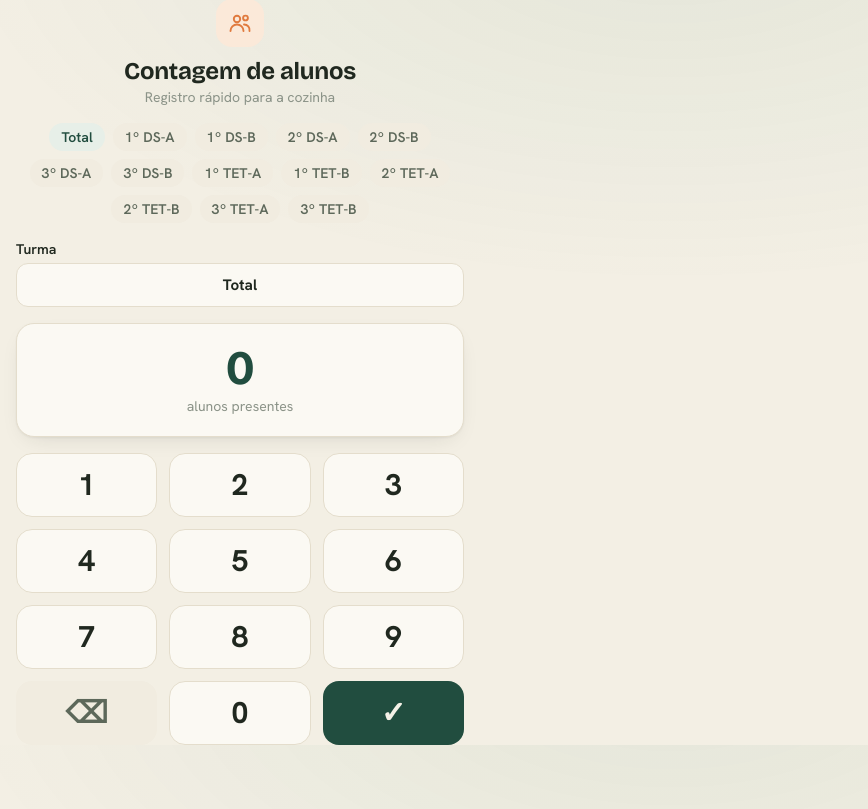
Test: ContagemView › registra qualquer turma automaticamente como integral
This screenshot has width=868, height=809.
Click the button "2º DS-A".
click(313, 137)  # box [276,123,350,151]
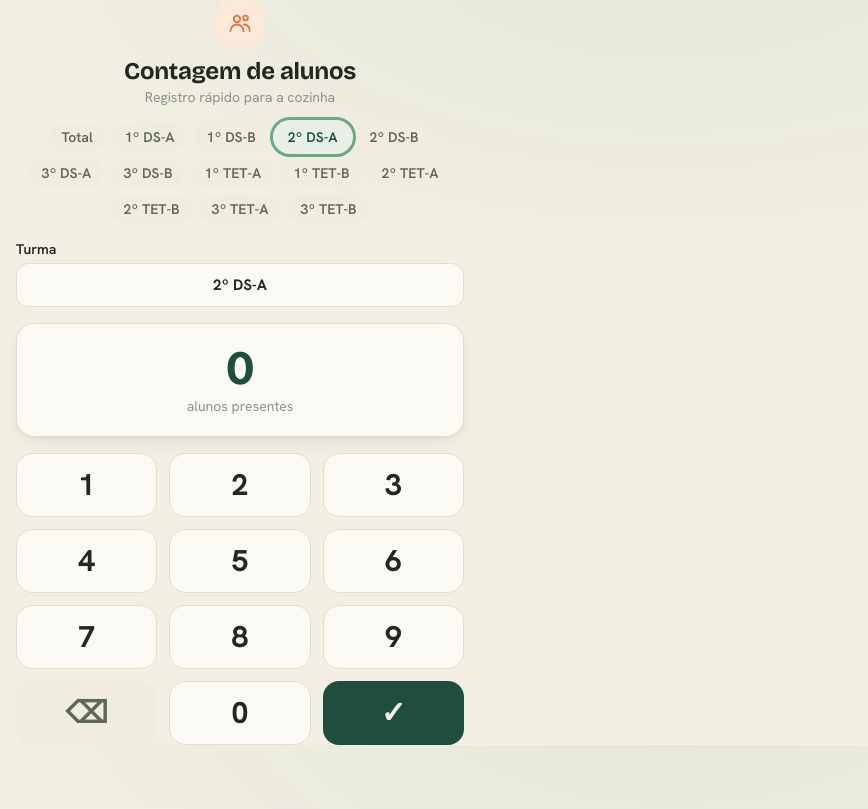
Click the button "2".
click(240, 485)  # box [169,453,311,517]
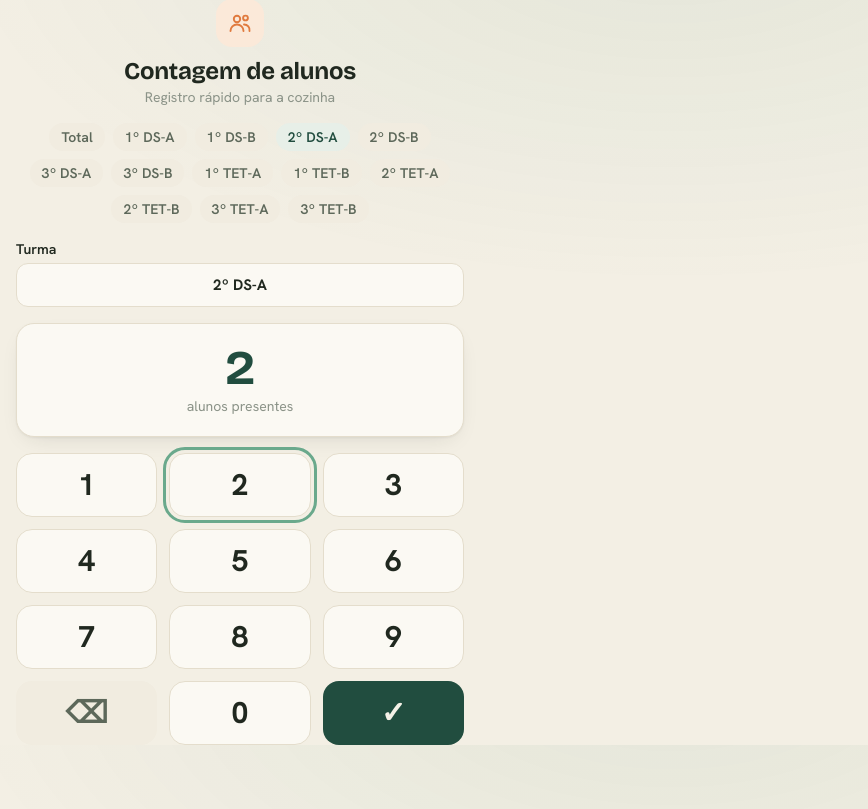
Click the button "0".
click(240, 713)  # box [169,681,311,745]
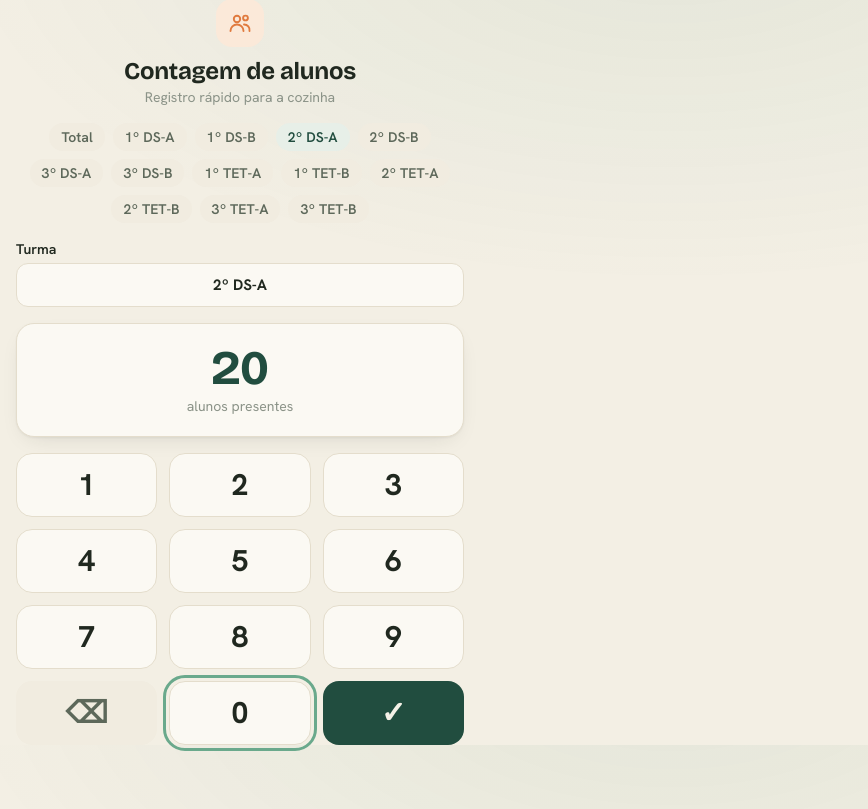
Click the button "✓".
click(393, 713)  # box [323,681,464,745]
(page scrolled)
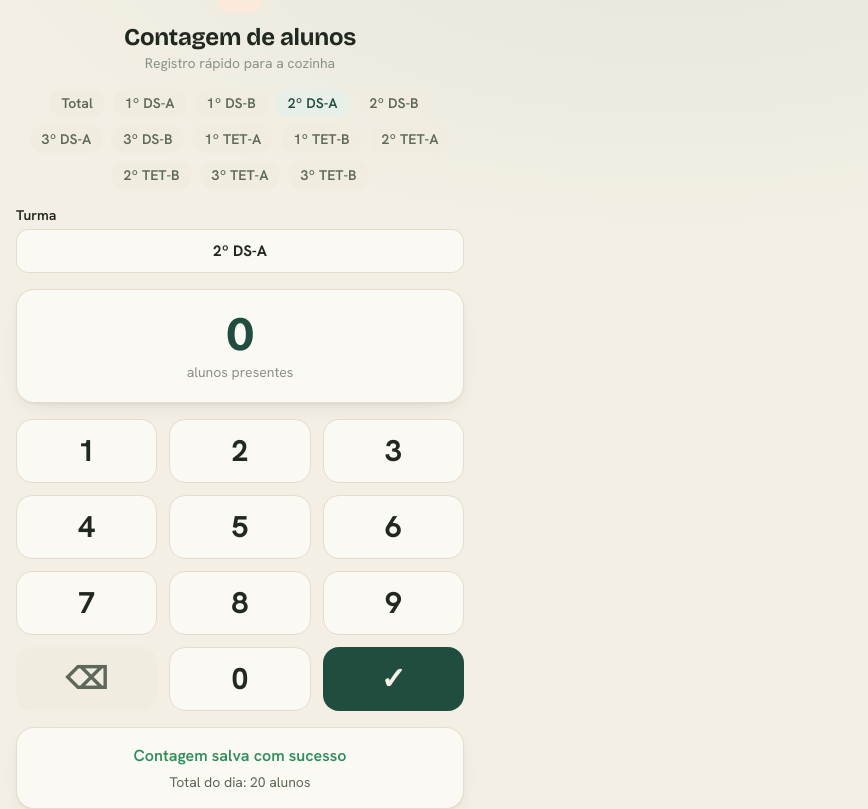
Expected: the text "Total do dia: 20 alunos" is shown, [170,773,310,791]
